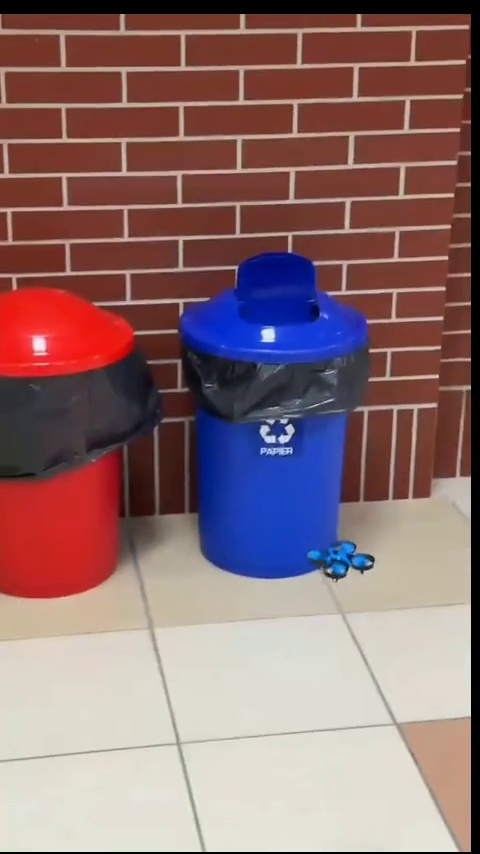drone: (310, 541, 378, 583)
